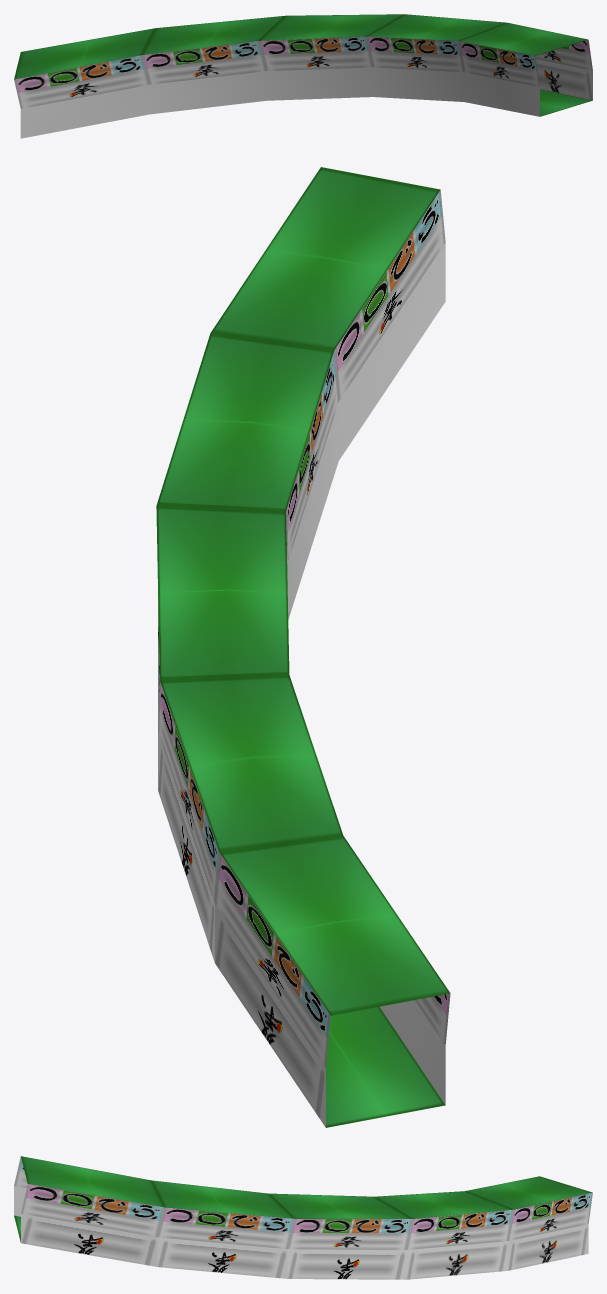
The model's file is CourseSummer_Wall_L_9.fbx.
3 views of the same model, one above another, from view 1: azimuth 30°, elevation 25°; view 2: azimuth 150°, elevation 25°; view 3: azimuth 270°, elevation 25° (orthographic). The views are drawn at different scales.
Parts seen in each view (by area): view 1: polySurface68; view 2: polySurface68; view 3: polySurface68.
Part boxes in pixels (box(x1,y1,x2,y2)): polySurface68: box(14, 14, 592, 138); polySurface68: box(156, 167, 450, 1127); polySurface68: box(14, 1156, 592, 1279).
Bounding box in the file's own units: 11.3 × 6.98 × 17.59.
Materials: 1 (1 with a texture image).
